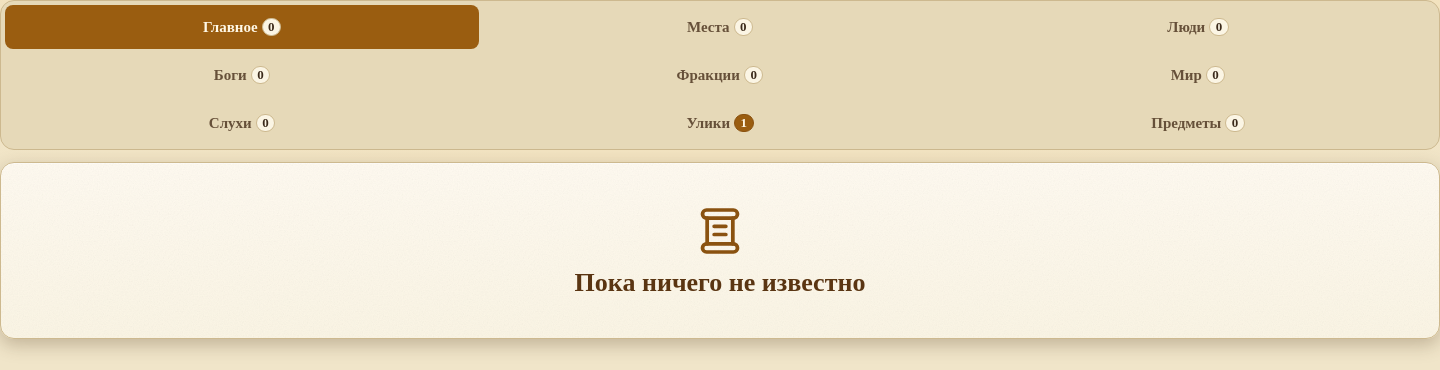
карточка записи › совпадение с названием сверяется без лишних пробелов, а дополнения остаются
Click the tab "Улики 1": click(720, 123) left=483, top=101, right=957, bottom=145
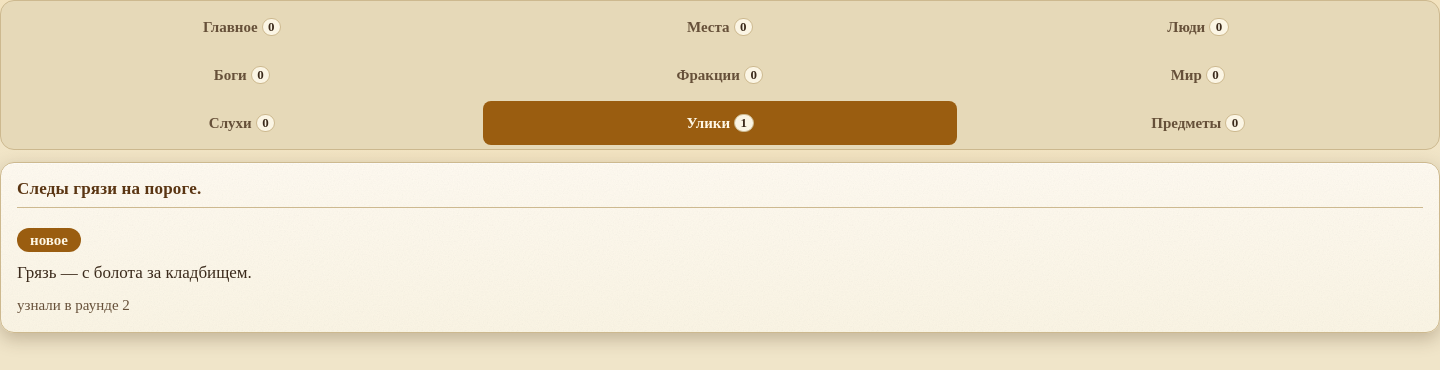
Expected: the text "Грязь — с болота за кладбищем." is shown, left=17, top=263, right=252, bottom=282
